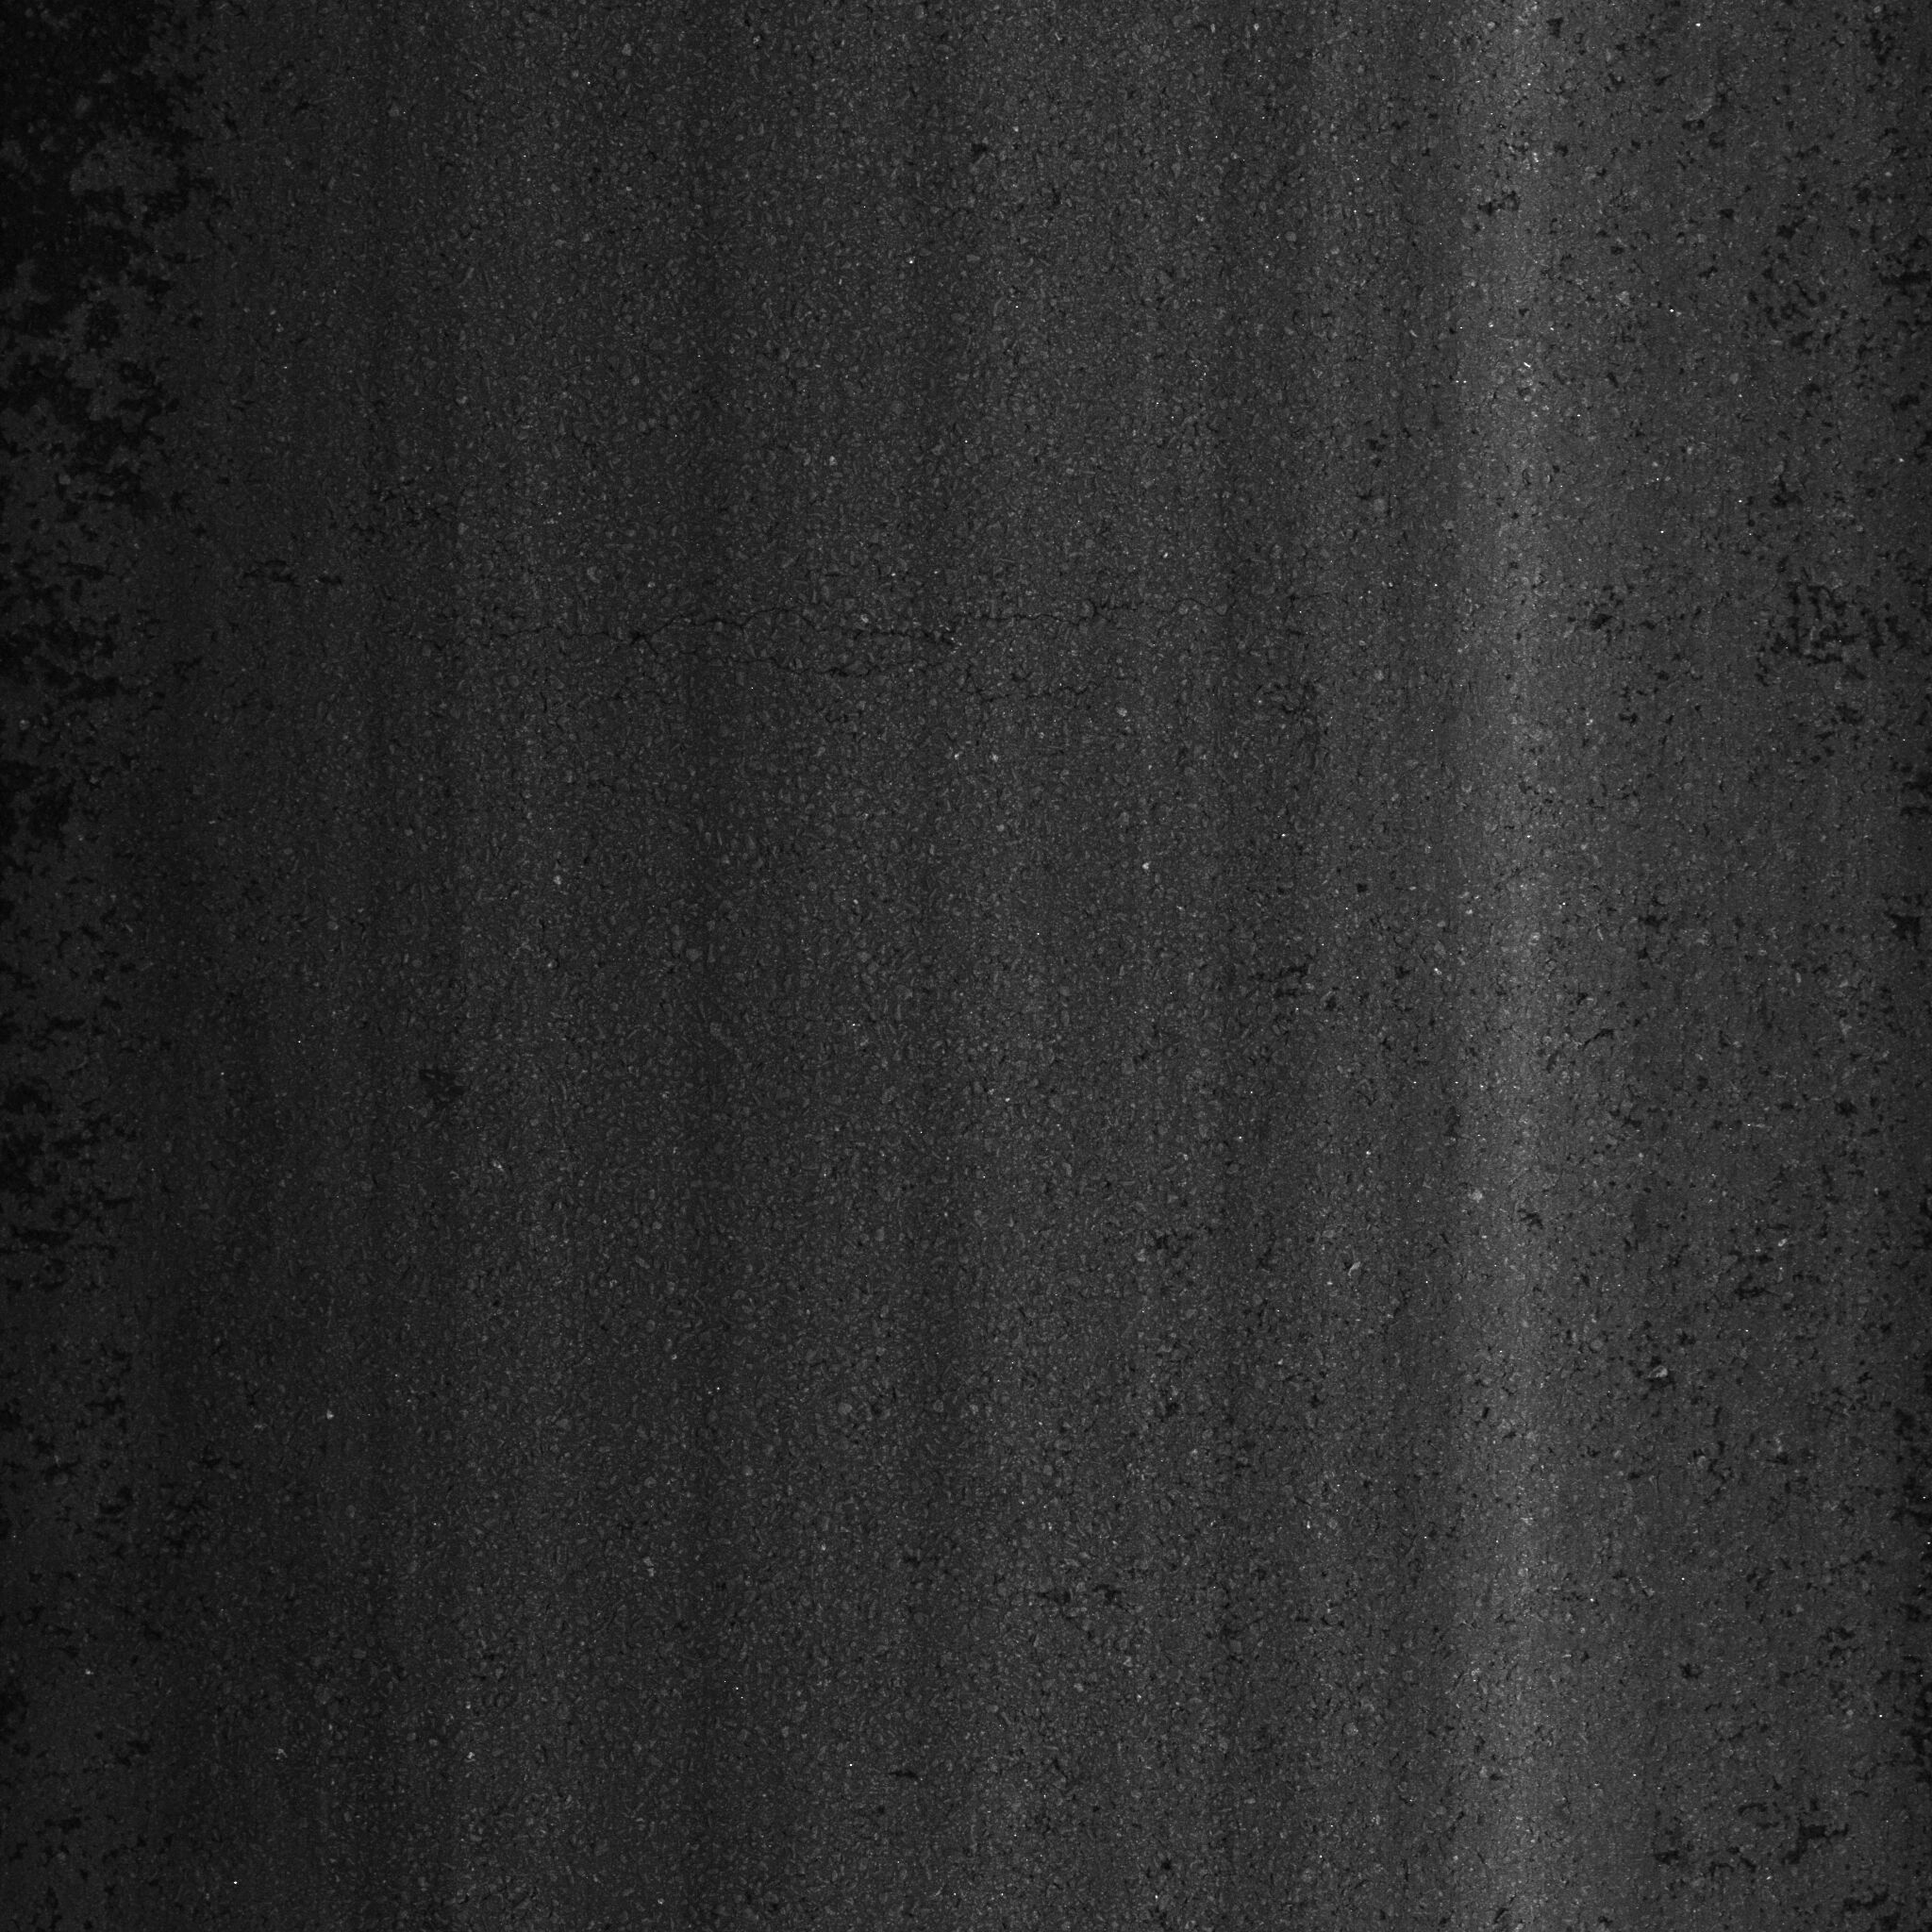transverse: (134, 499, 1132, 745)
